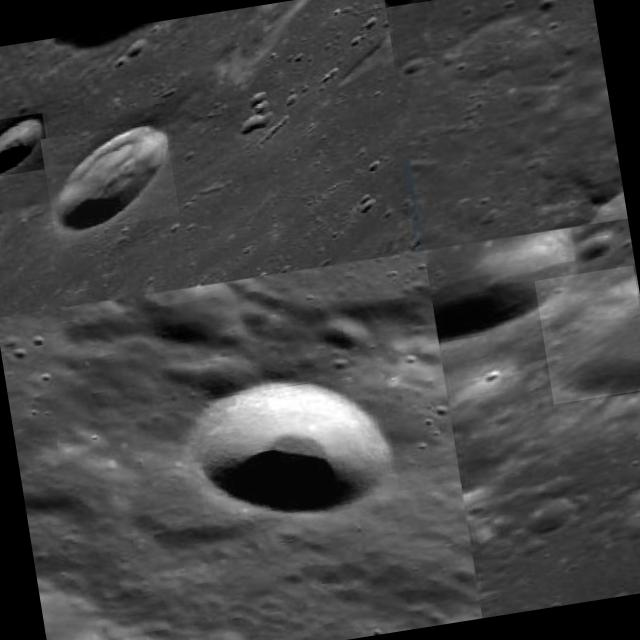crater: (186, 363, 401, 528), (424, 228, 588, 350), (41, 120, 180, 234), (535, 265, 640, 404), (0, 113, 51, 179), (382, 0, 431, 8)
